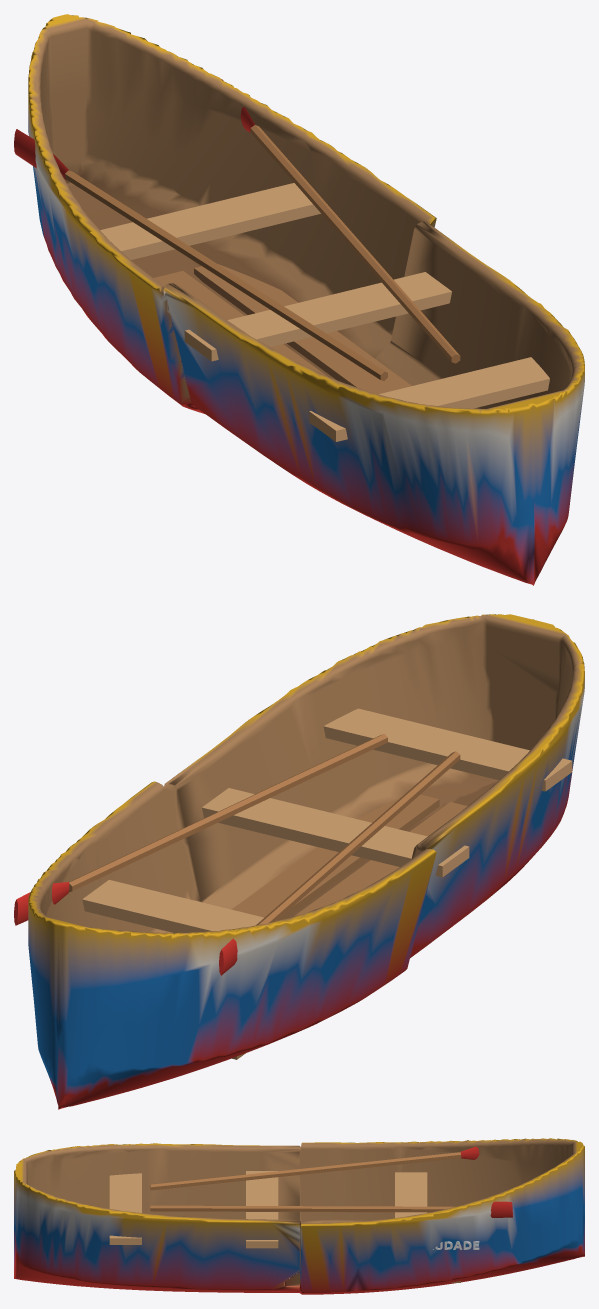
Rendered from boat.glb.
The picture shows the model from 3 angles, top to bottom: view 1: azimuth 30°, elevation 25°; view 2: azimuth 150°, elevation 25°; view 3: azimuth 270°, elevation 25°; orthographic projection. The views are drawn at different scales.
Parts seen in each view (by area): view 1: boat_mesh; view 2: boat_mesh; view 3: boat_mesh.
Boxes of the visible parts, bbox=[...] form: boat_mesh: bbox=[14, 14, 584, 585]; boat_mesh: bbox=[14, 614, 584, 1109]; boat_mesh: bbox=[14, 1138, 584, 1294].
Bounding box in the file's own units: 1.59 × 1.24 × 4.6.
